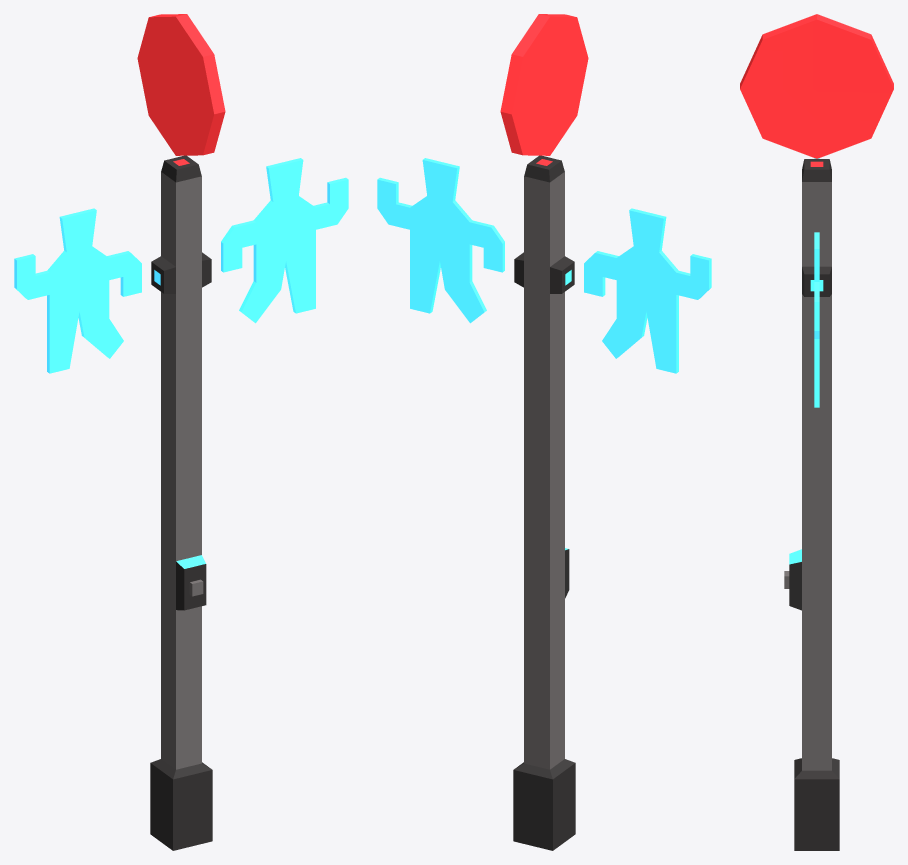
The model's file is scifi_scifi-crossing-sign-go.fbx.
The picture shows the model from 3 angles, left to right: view 1: azimuth 30°, elevation 25°; view 2: azimuth 150°, elevation 25°; view 3: azimuth 270°, elevation 25°; orthographic projection.
Parts seen in each view (by area): view 1: scifi_scifi_crossing_sign_go; view 2: scifi_scifi_crossing_sign_go; view 3: scifi_scifi_crossing_sign_go.
Boxes of the visible parts, x1,y1,x2,y2 form: scifi_scifi_crossing_sign_go: (14,14,348,850); scifi_scifi_crossing_sign_go: (377,14,711,850); scifi_scifi_crossing_sign_go: (740,14,893,850).
Size of the model in its own units: 84.42 by 200 by 33.84.
